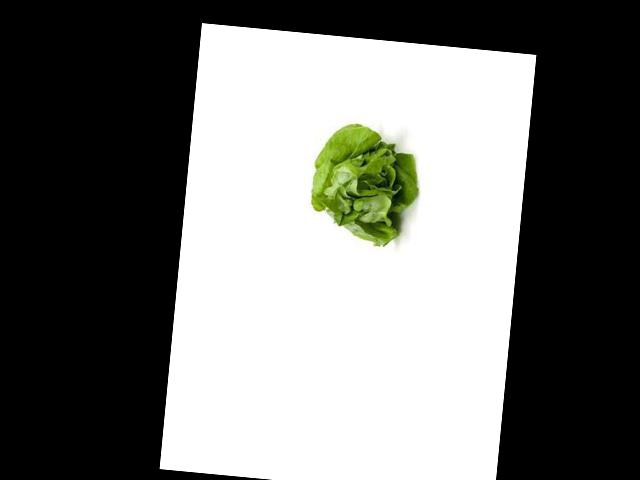lettuce: (312, 157, 428, 267)
